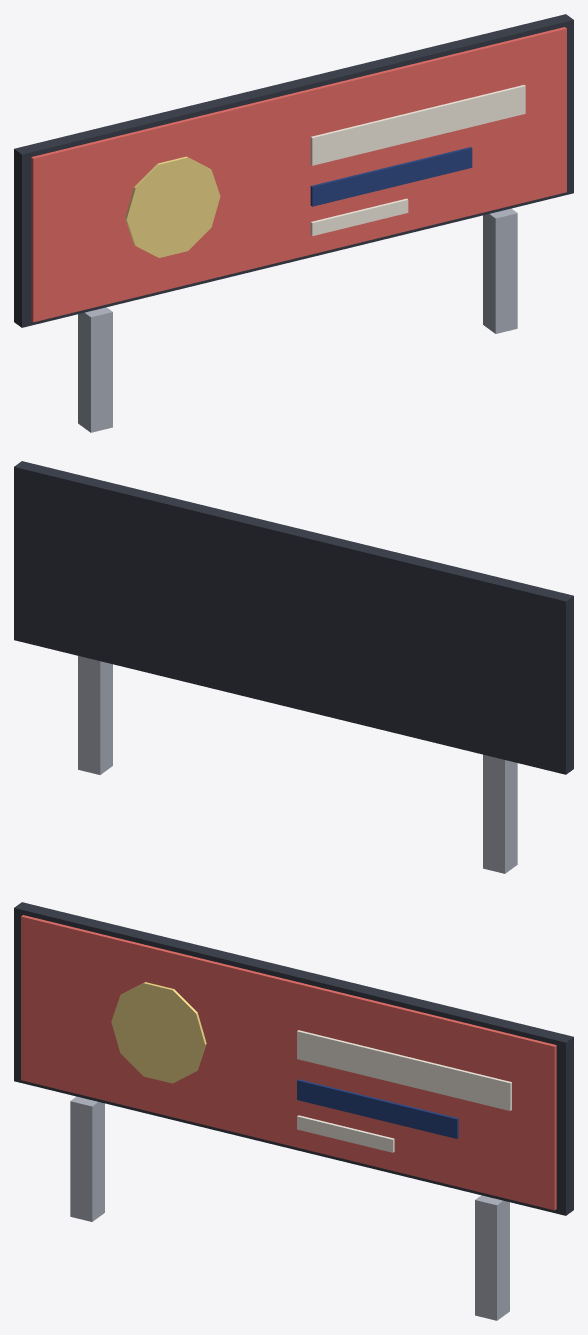
The model's file is billboard_wide.glb.
The picture shows the model from 3 angles, top to bottom: view 1: azimuth 30°, elevation 25°; view 2: azimuth 150°, elevation 25°; view 3: azimuth 330°, elevation 25°; orthographic projection.
Visible parts, largest first — view 1: billboard_wide; view 2: billboard_wide; view 3: billboard_wide.
Boxes of the visible parts, x1,y1,x2,y2 form: billboard_wide: (14,14,573,432); billboard_wide: (14,461,573,873); billboard_wide: (14,902,573,1320).
Bounding box in the file's own units: 0.6 × 0.3 × 0.027.
